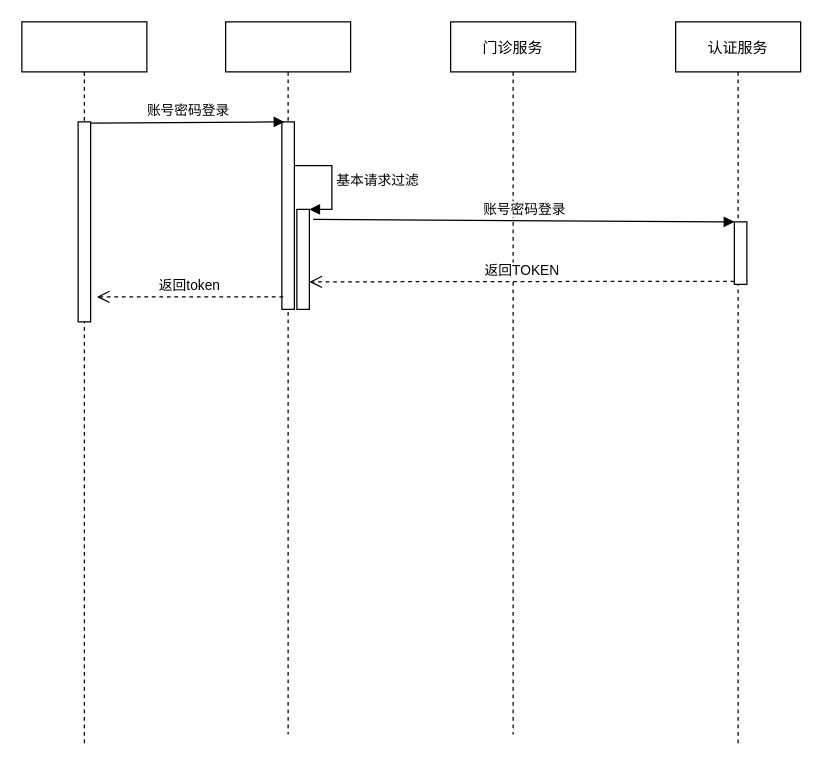
Some shapes in this 823 by 769 pixel diagram are drawn without their labels. Here are the shapes that lost their labels. From the top down, the box of each, then its label:
(21, 21, 147, 747): 用户
(224, 21, 351, 734): 网关
